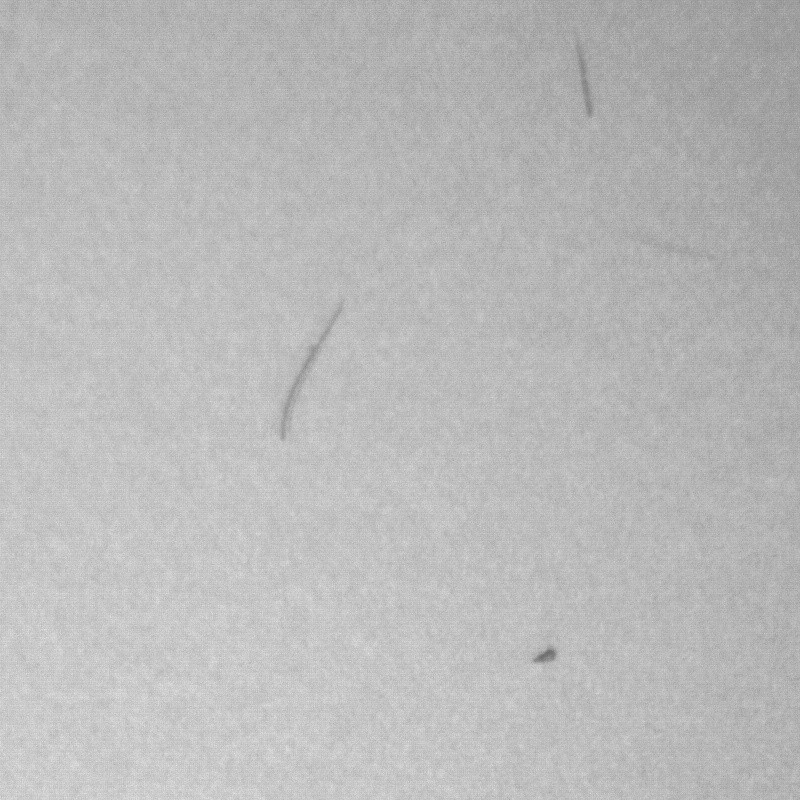defect: (276, 293, 348, 441), (565, 24, 605, 124), (524, 640, 564, 667)
